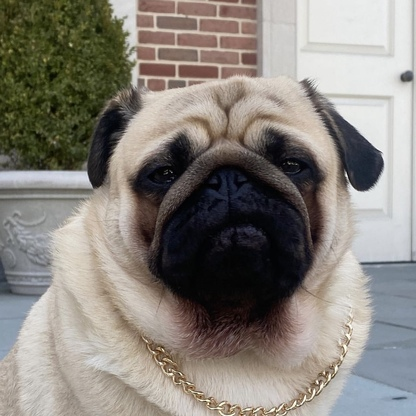Pug: (1, 65, 399, 416)
